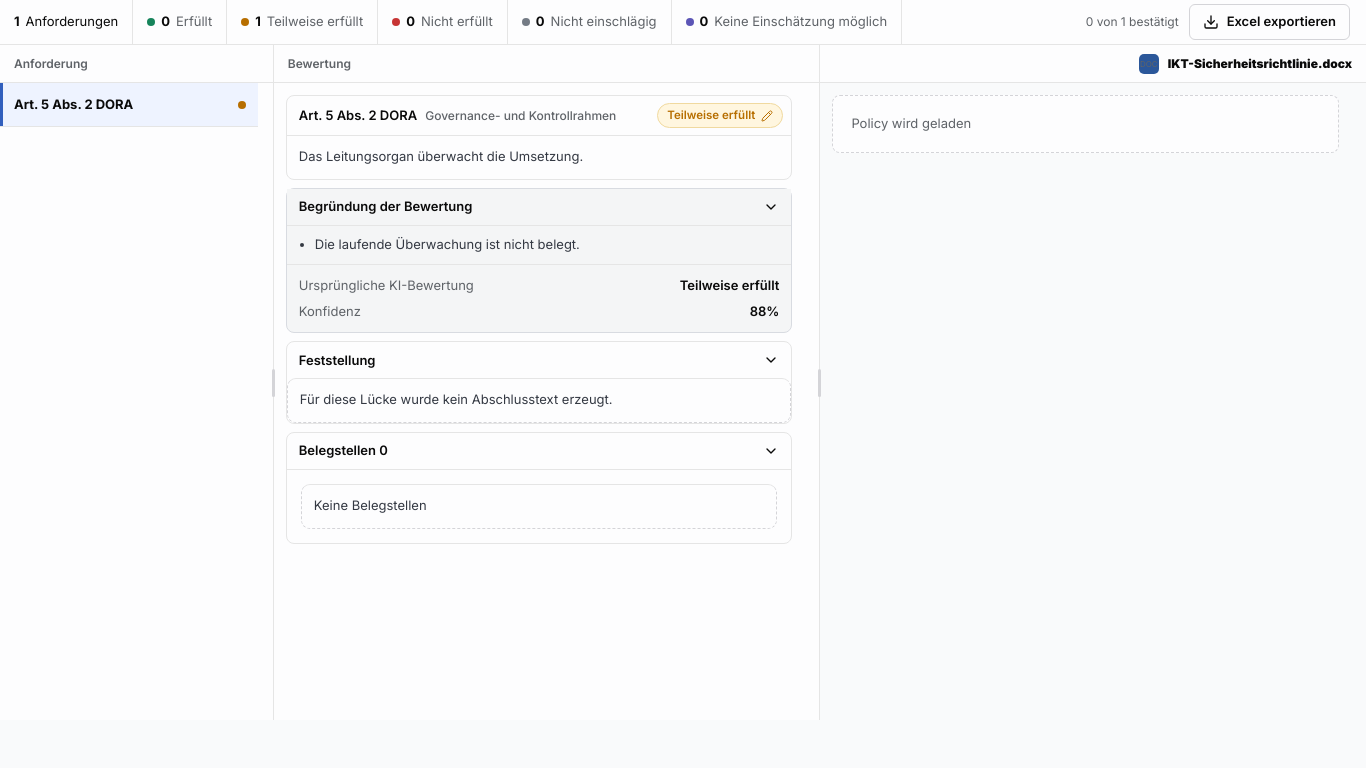
Test: analysis result confirmation UI › overrides the effective status and keeps the original AI status visible
Click the button with aria-label "Status ändern" at [720, 116], box [657,103,783,128]
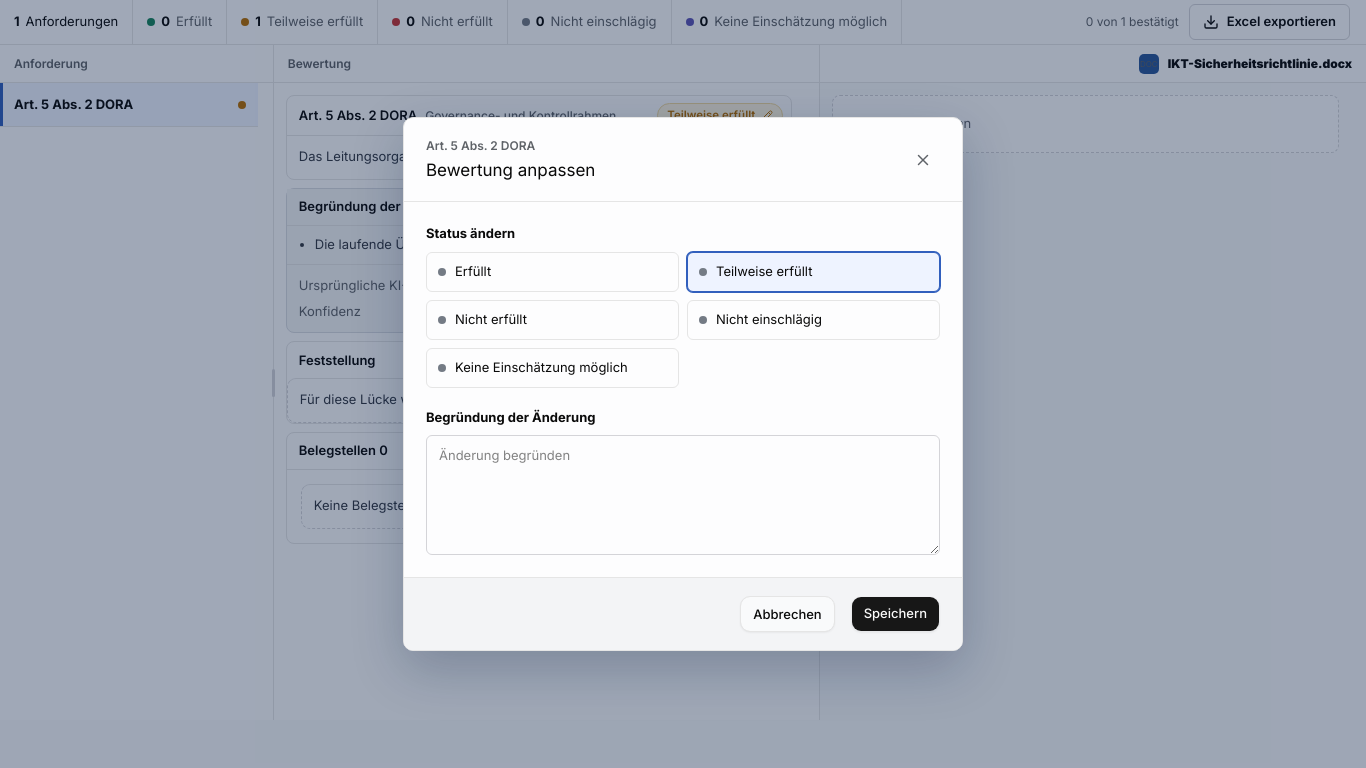
Click the radio button labelled "Erfüllt" at [552, 272], box [426,252,679,292]
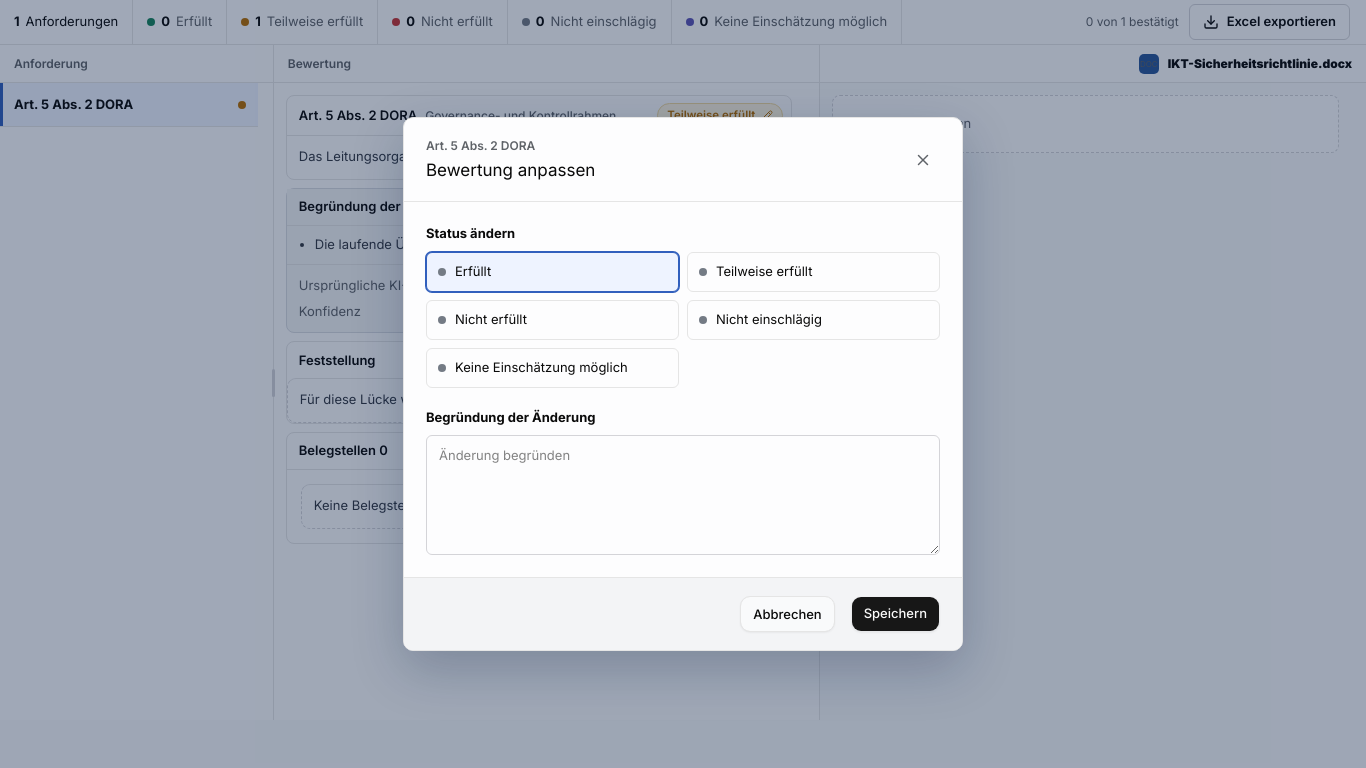
Type "Die Nachweise wurden manuell geprüft." into the text box labelled "Begründung der Änderung" at [683, 495], box [426,435,940,555]
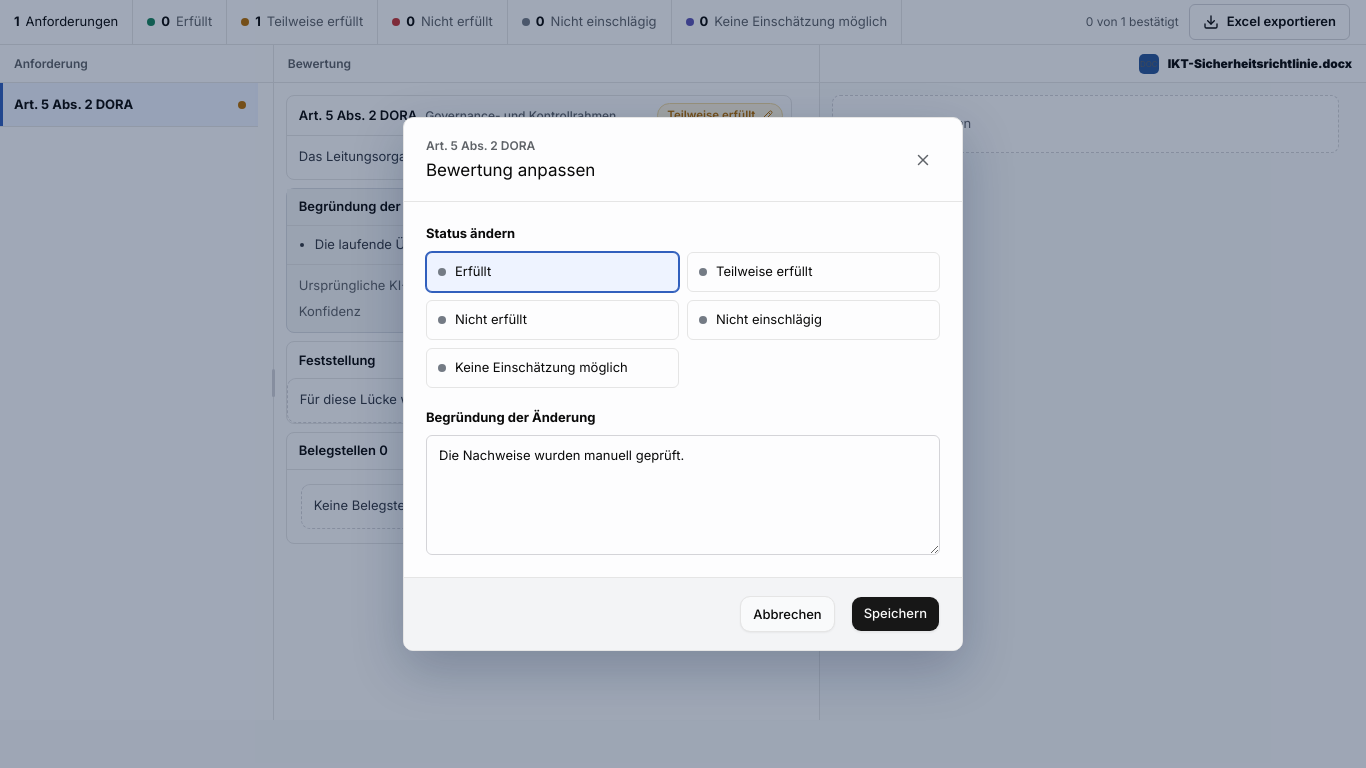
Click the button "Speichern" at [895, 614], box [851,596,940,632]
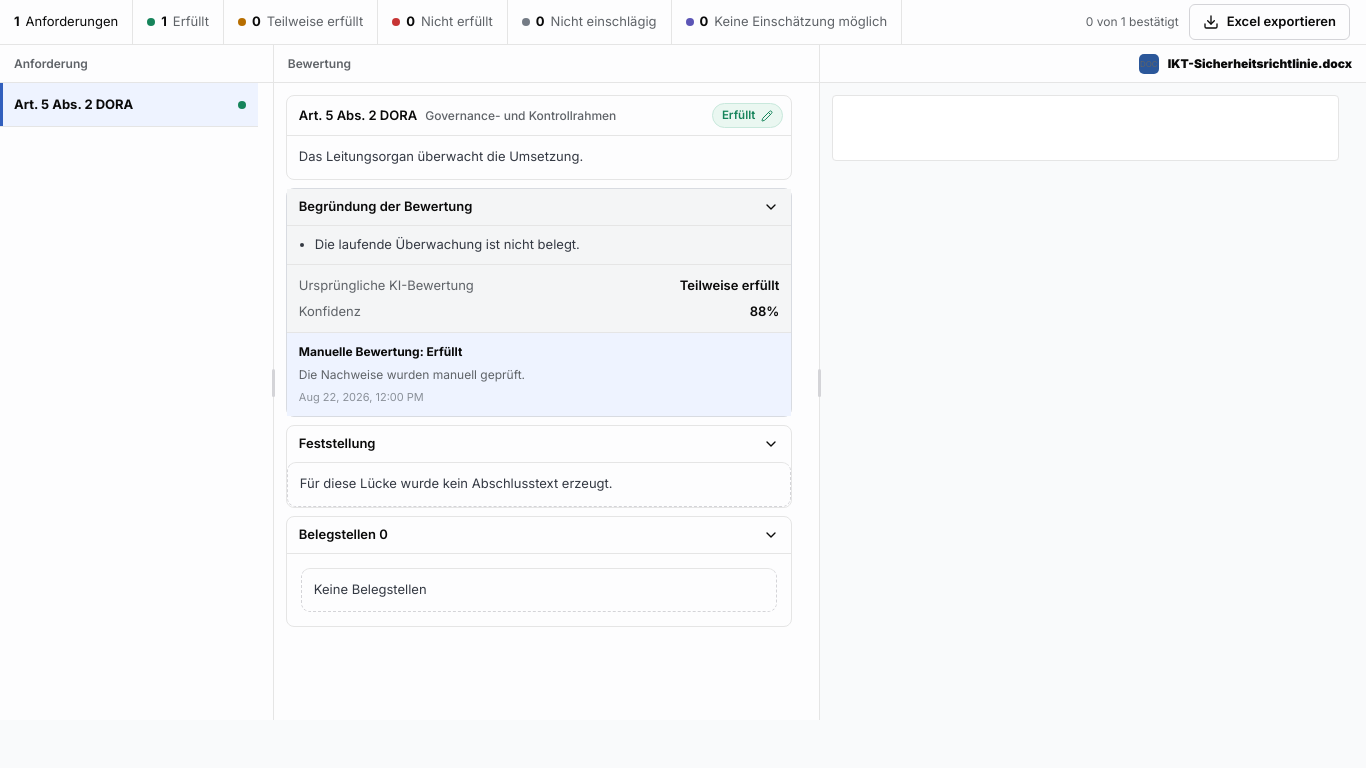
Result: the dialog is gone
Result: the button with aria-label "Status ändern" reads "Erfüllt" at [712,103,783,128]
Result: the text "Die Nachweise wurden manuell geprüft." is shown at [299,367,525,382]
